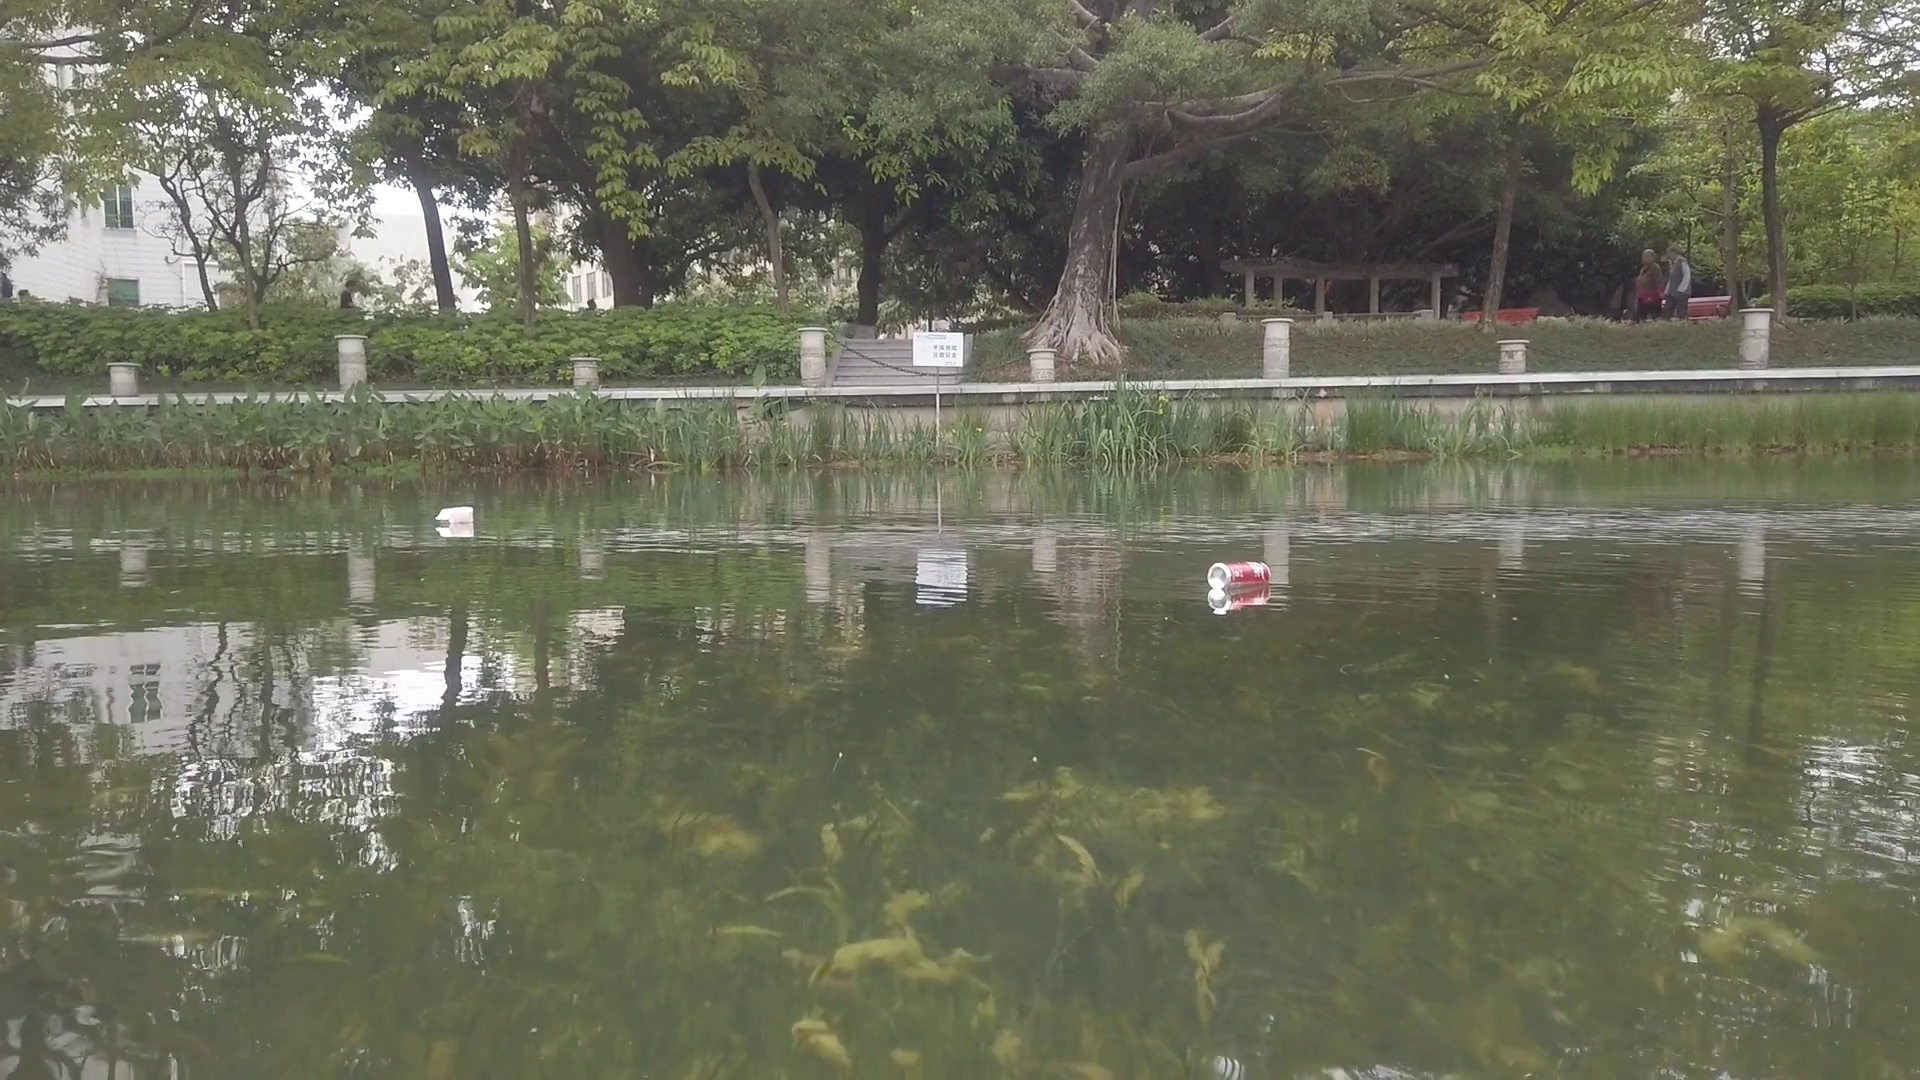bottle: (1211, 559, 1269, 588)
carton: (433, 506, 473, 524)
